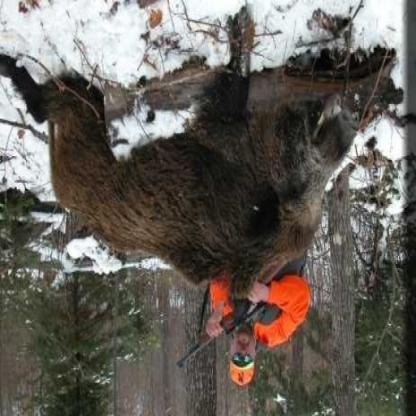boar: (25, 21, 377, 289)
